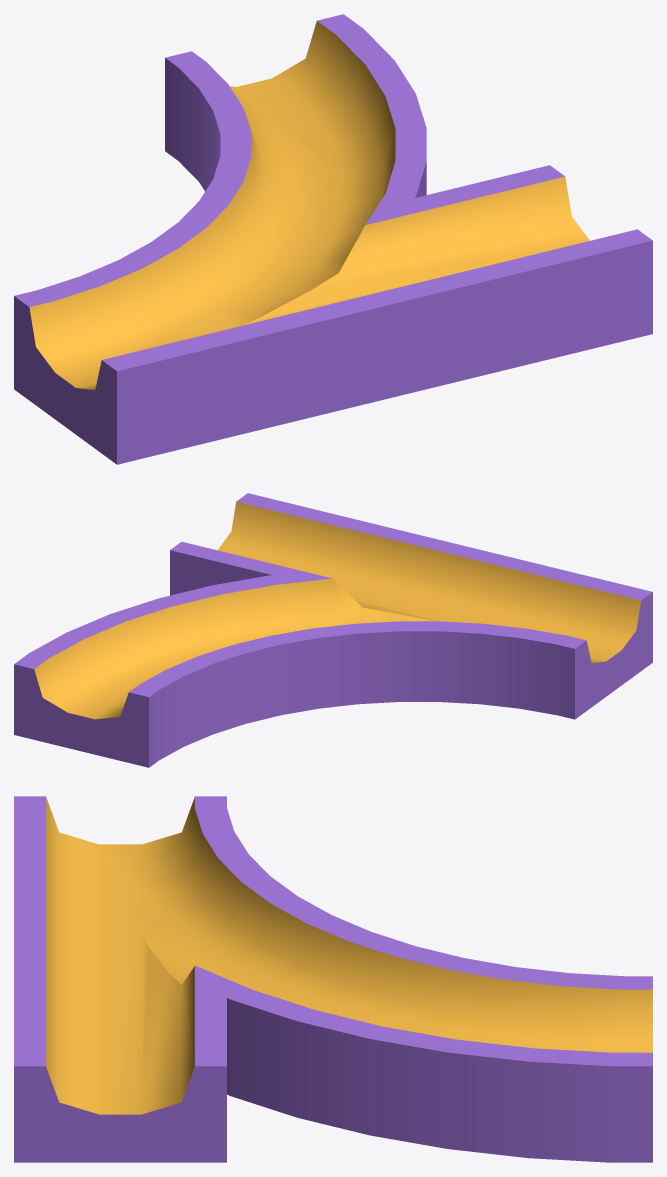
Rendered from split-large-left-col.glb.
The picture shows the model from 3 angles, top to bottom: view 1: azimuth 30°, elevation 25°; view 2: azimuth 150°, elevation 25°; view 3: azimuth 270°, elevation 25°; orthographic projection. The views are drawn at different scales.
Parts seen in each view (by area): view 1: split-large-left-col; view 2: split-large-left-col; view 3: split-large-left-col.
Part boxes in pixels (bbox=[...]): split-large-left-col: bbox=[14, 14, 652, 464]; split-large-left-col: bbox=[14, 493, 652, 767]; split-large-left-col: bbox=[14, 796, 652, 1162].
Bounding box in the file's own units: 3 × 0.5 × 3.
Materials: 1 (1 with a texture image).
